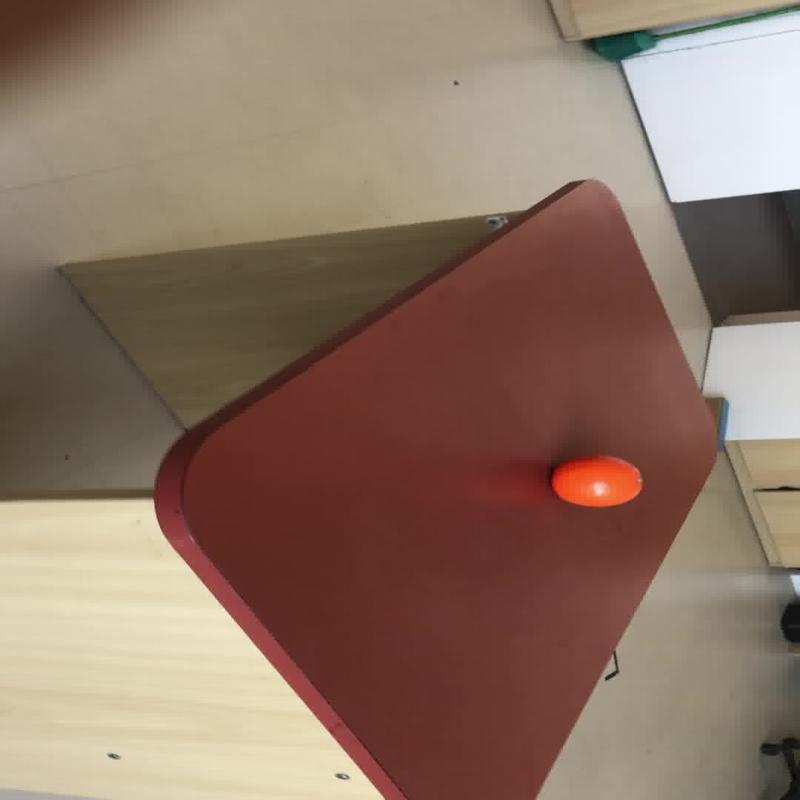orange: (548, 454, 642, 507)
